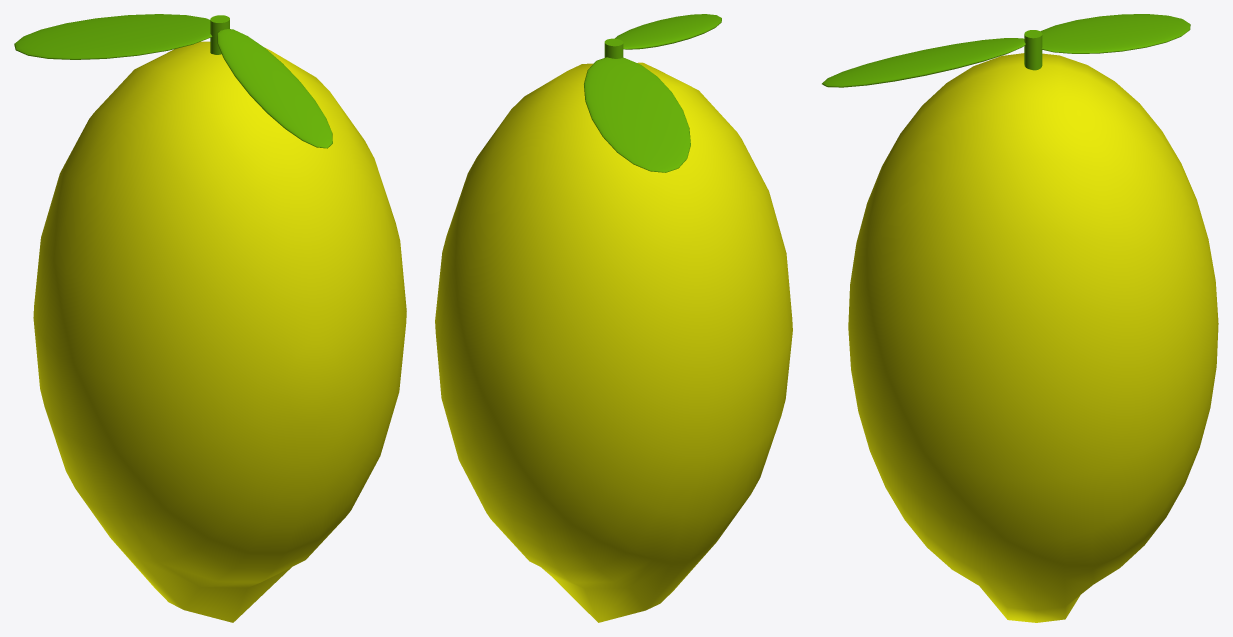
File: johnLemon 1.fbx
3 renders of one model, left to right at view 1: azimuth 30°, elevation 25°; view 2: azimuth 150°, elevation 25°; view 3: azimuth 270°, elevation 25°, orthographic. The views are drawn at different scales.
Parts seen in each view (by area): view 1: pSphere1, pasted__pSphere2, pSphere2; view 2: pSphere1, pasted__pSphere2, pSphere2; view 3: pSphere1, pasted__pSphere2, pSphere2, pCylinder1.
Boxes of the visible parts, left/top/right/bottom form: pSphere1: left=33, top=41, right=406, bottom=622; pasted__pSphere2: left=14, top=14, right=212, bottom=59; pSphere2: left=217, top=29, right=332, bottom=148; pSphere1: left=435, top=62, right=792, bottom=622; pasted__pSphere2: left=584, top=57, right=690, bottom=172; pSphere2: left=615, top=14, right=721, bottom=49; pSphere1: left=848, top=53, right=1218, bottom=622; pasted__pSphere2: left=1040, top=14, right=1190, bottom=53; pSphere2: left=822, top=38, right=1025, bottom=87; pCylinder1: left=1024, top=30, right=1042, bottom=70.
Size of the model in its own units: 236 by 417 by 255.
